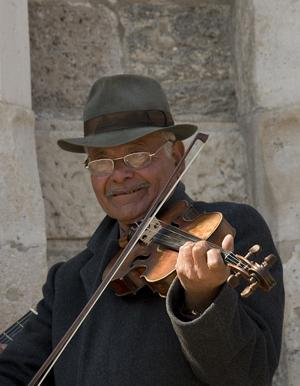person: (1, 76, 286, 386)
